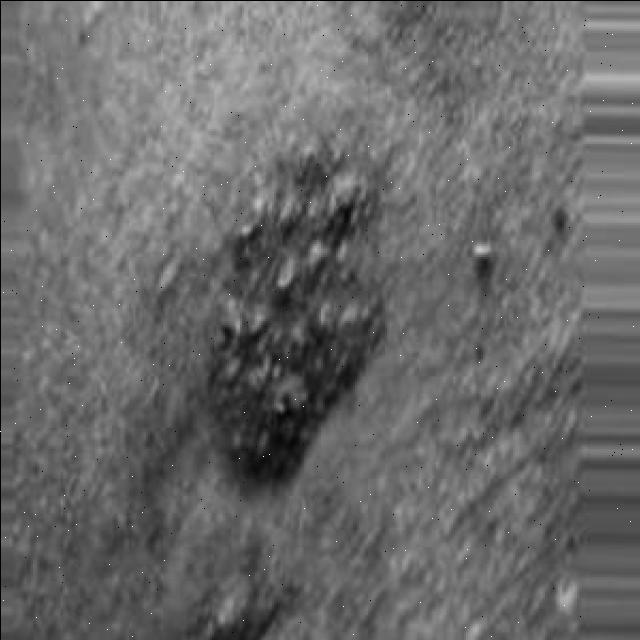Shingles: (212, 152, 384, 480)
